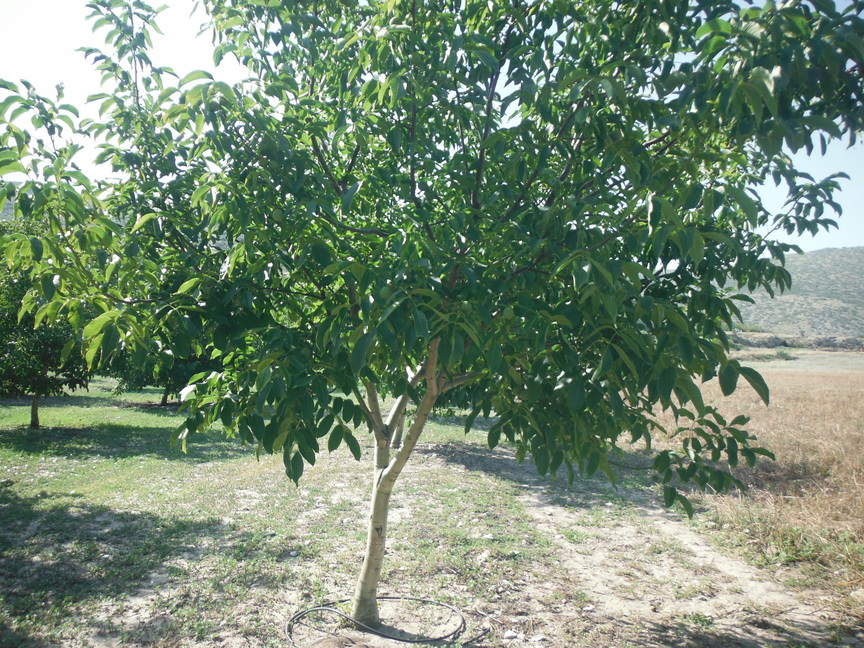walnut: (498, 301, 520, 324), (269, 204, 289, 225), (404, 47, 423, 69), (376, 283, 395, 302), (435, 93, 454, 111), (458, 295, 475, 315), (298, 343, 315, 362), (640, 51, 656, 71), (414, 175, 431, 193), (628, 44, 647, 60), (422, 186, 439, 203), (641, 331, 656, 350), (609, 125, 624, 143), (558, 175, 575, 190), (388, 13, 403, 29), (620, 21, 637, 35), (224, 379, 241, 393), (509, 381, 523, 398), (256, 155, 271, 169), (600, 133, 614, 147), (519, 387, 533, 401), (267, 158, 281, 171), (346, 45, 358, 59), (300, 18, 311, 33), (328, 96, 340, 107), (322, 99, 332, 108)
